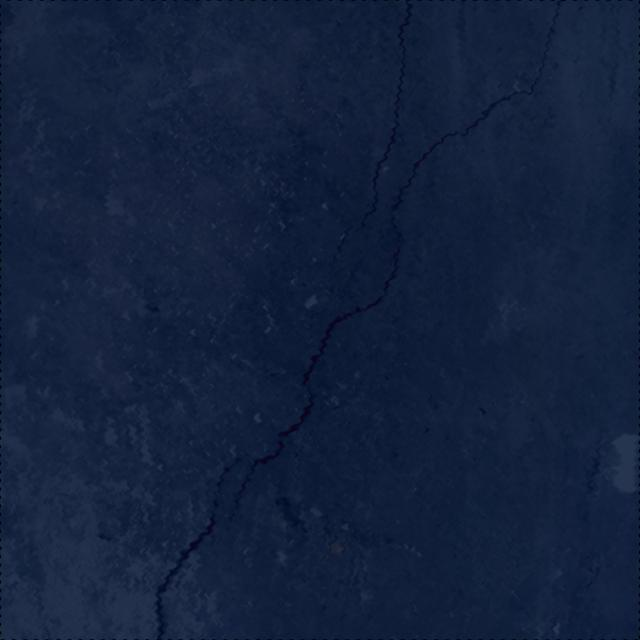crack: (154, 0, 566, 640), (352, 0, 414, 237), (329, 217, 354, 290)
